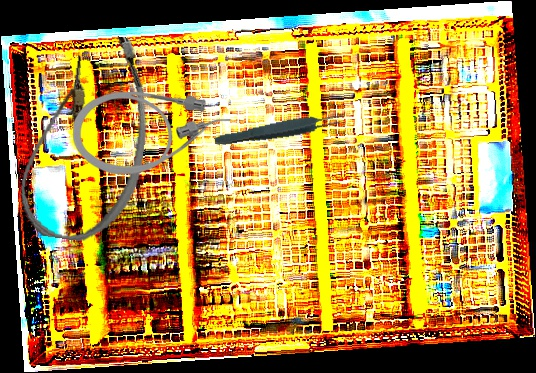Cannula: (15, 25, 159, 249), (73, 92, 230, 174)
Tissue Forceps: (213, 109, 346, 151)
